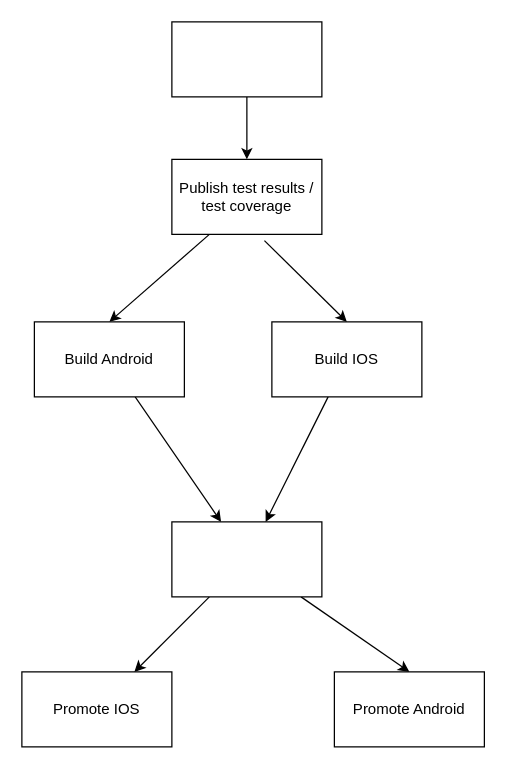
Image size: 506x769. Some labels were removed from this diagram. The box of each missing label's shape, as (x1, y1, x2, y2) in pixels:
Publish: (171, 521, 322, 597)
Run tests: (171, 21, 322, 97)
